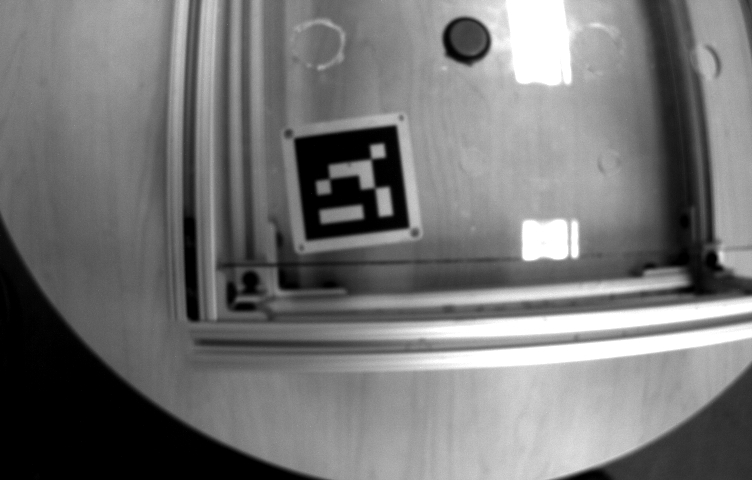dull_green_button: (423, 7, 520, 89)
